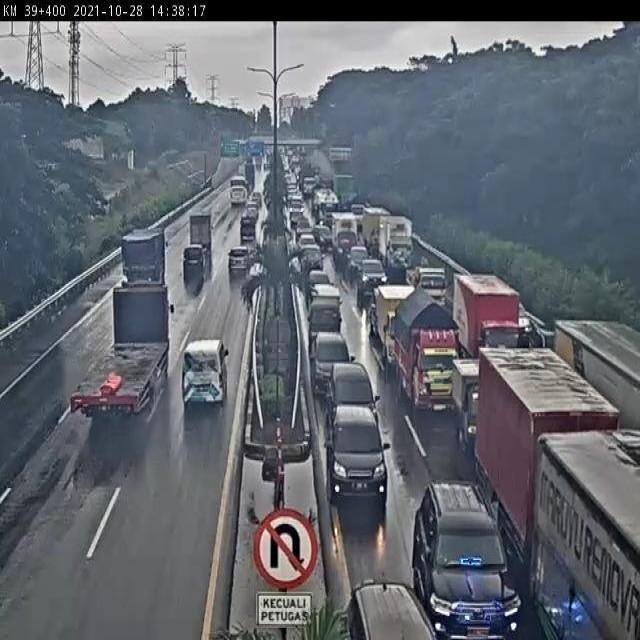Car: (411, 482, 532, 640), (324, 406, 394, 507), (324, 362, 383, 415), (312, 334, 358, 398), (358, 261, 391, 301), (226, 244, 253, 277), (180, 243, 208, 272)
Truck: (474, 347, 640, 640), (68, 286, 176, 424), (553, 320, 640, 458), (391, 286, 469, 412), (453, 270, 530, 371), (367, 285, 426, 371), (120, 226, 171, 293), (187, 210, 214, 254)
Van: (179, 334, 231, 410)
